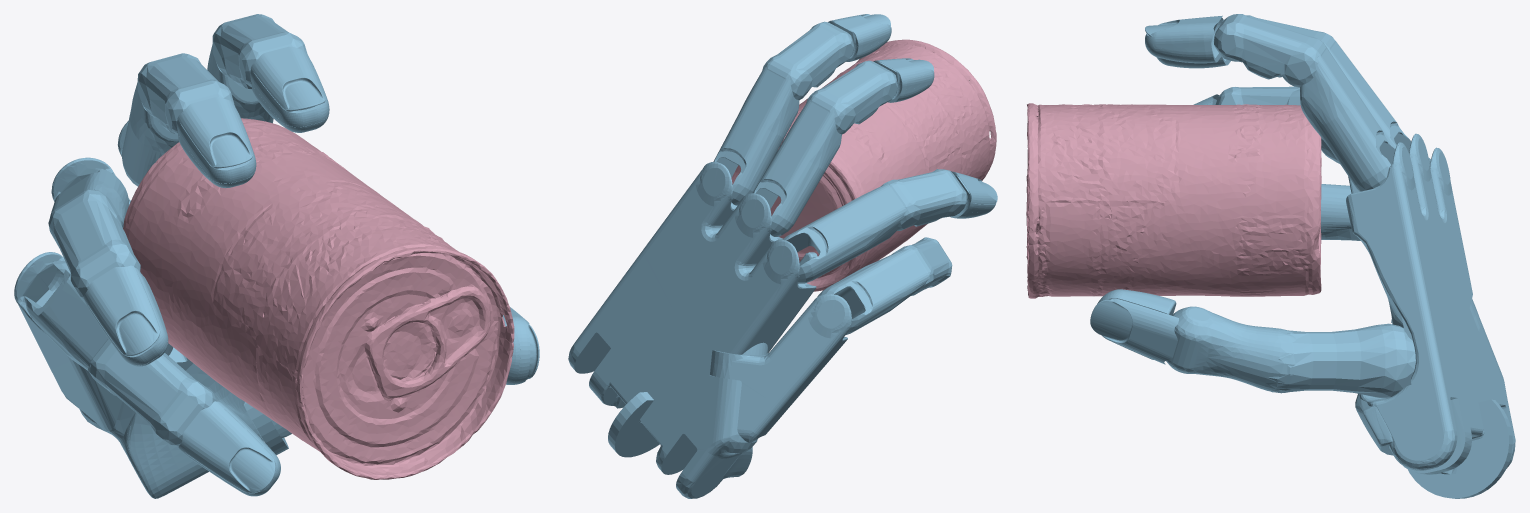
The picture shows the model from 3 angles, left to right: view 1: azimuth 30°, elevation 25°; view 2: azimuth 150°, elevation 25°; view 3: azimuth 270°, elevation 25°; orthographic projection. The views are drawn at different scales.
Parts seen in each view (by area): view 1: tomato_soup_can.stl, world; view 2: world, tomato_soup_can.stl; view 3: world, tomato_soup_can.stl.
Part boxes in pixels (box(x1,y1,x2,y2)): tomato_soup_can.stl: box(123, 118, 514, 479); world: box(14, 14, 539, 498); world: box(568, 14, 997, 498); tomato_soup_can.stl: box(731, 39, 996, 291); world: box(1090, 14, 1515, 498); tomato_soup_can.stl: box(1026, 103, 1321, 298).
Size of the model in its own units: 0.1376 by 0.17 by 0.1688.
